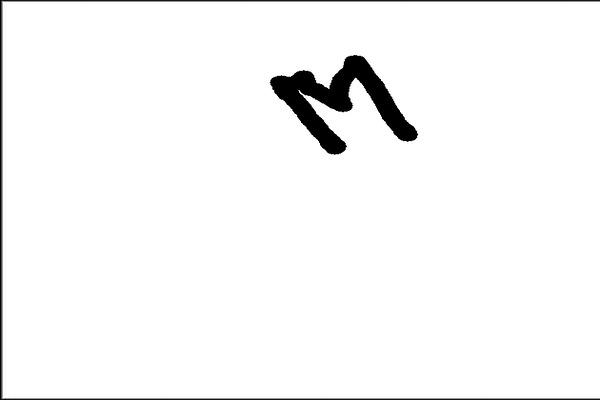M: (272, 49, 419, 154)
